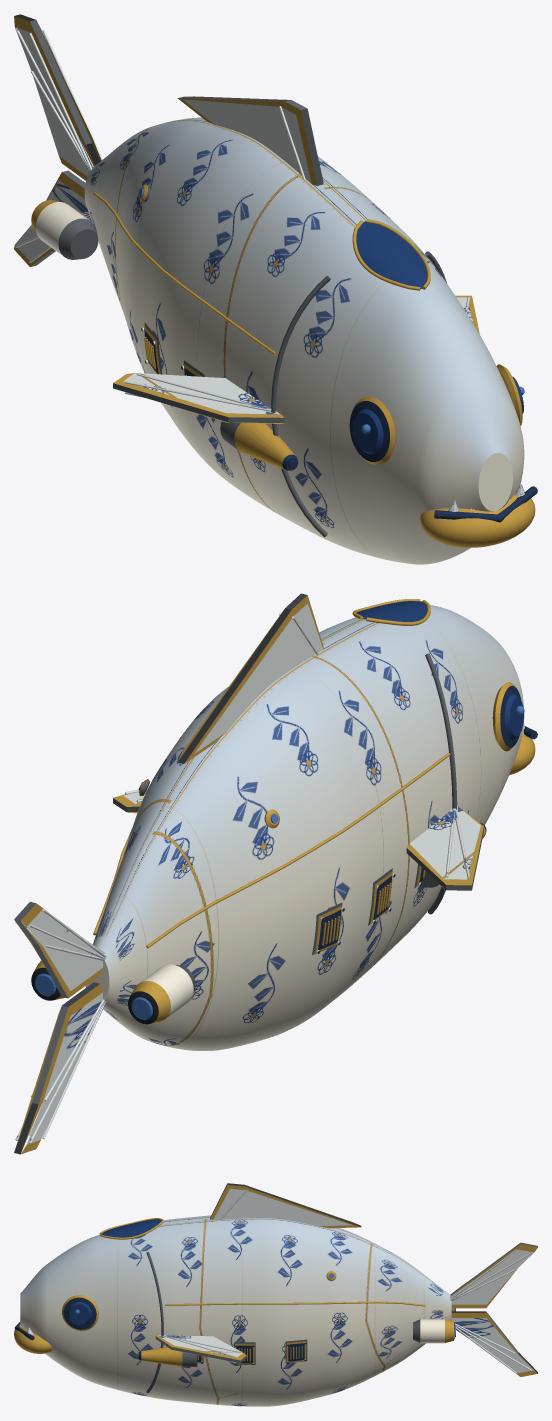
3 views of the same model, one above another, from view 1: azimuth 30°, elevation 25°; view 2: azimuth 150°, elevation 25°; view 3: azimuth 270°, elevation 25° (orthographic). The views are drawn at different scales.
Visible parts, largest first — view 1: piranha_hull; view 2: piranha_hull; view 3: piranha_hull.
Part boxes in pixels (x1,y1,x2,y2): piranha_hull: [14, 14, 537, 564]; piranha_hull: [14, 593, 537, 1154]; piranha_hull: [14, 1183, 537, 1406].
Bounding box in the file's own units: 6.42 × 6.94 × 15.
Materials: 1 (1 with a texture image).
